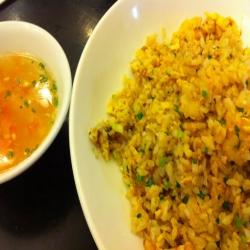rice: (108, 26, 250, 247)
